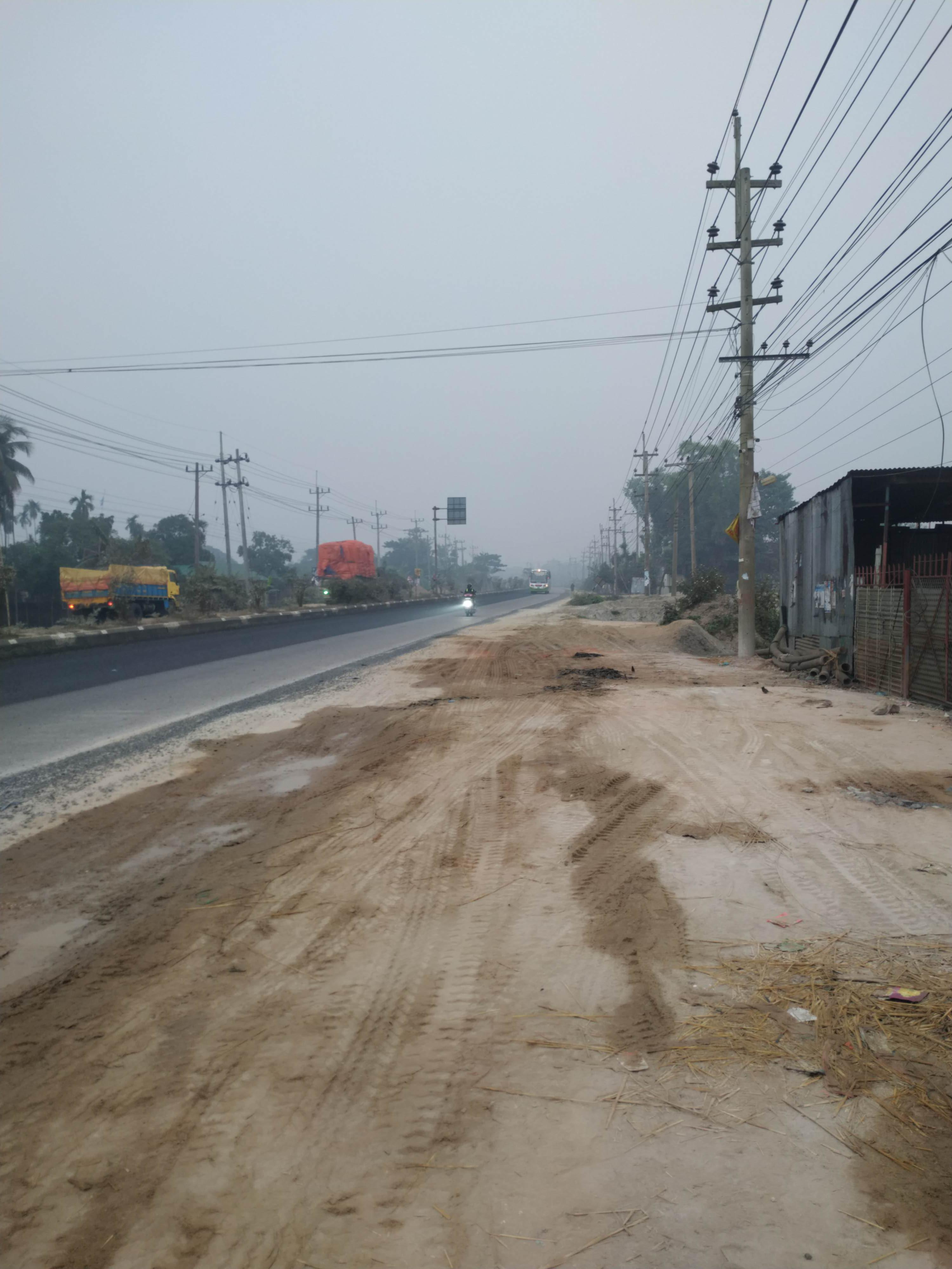Bike: (457, 577, 485, 629)
Bus: (522, 559, 562, 615)
Truck: (48, 549, 202, 621), (309, 533, 397, 596)
